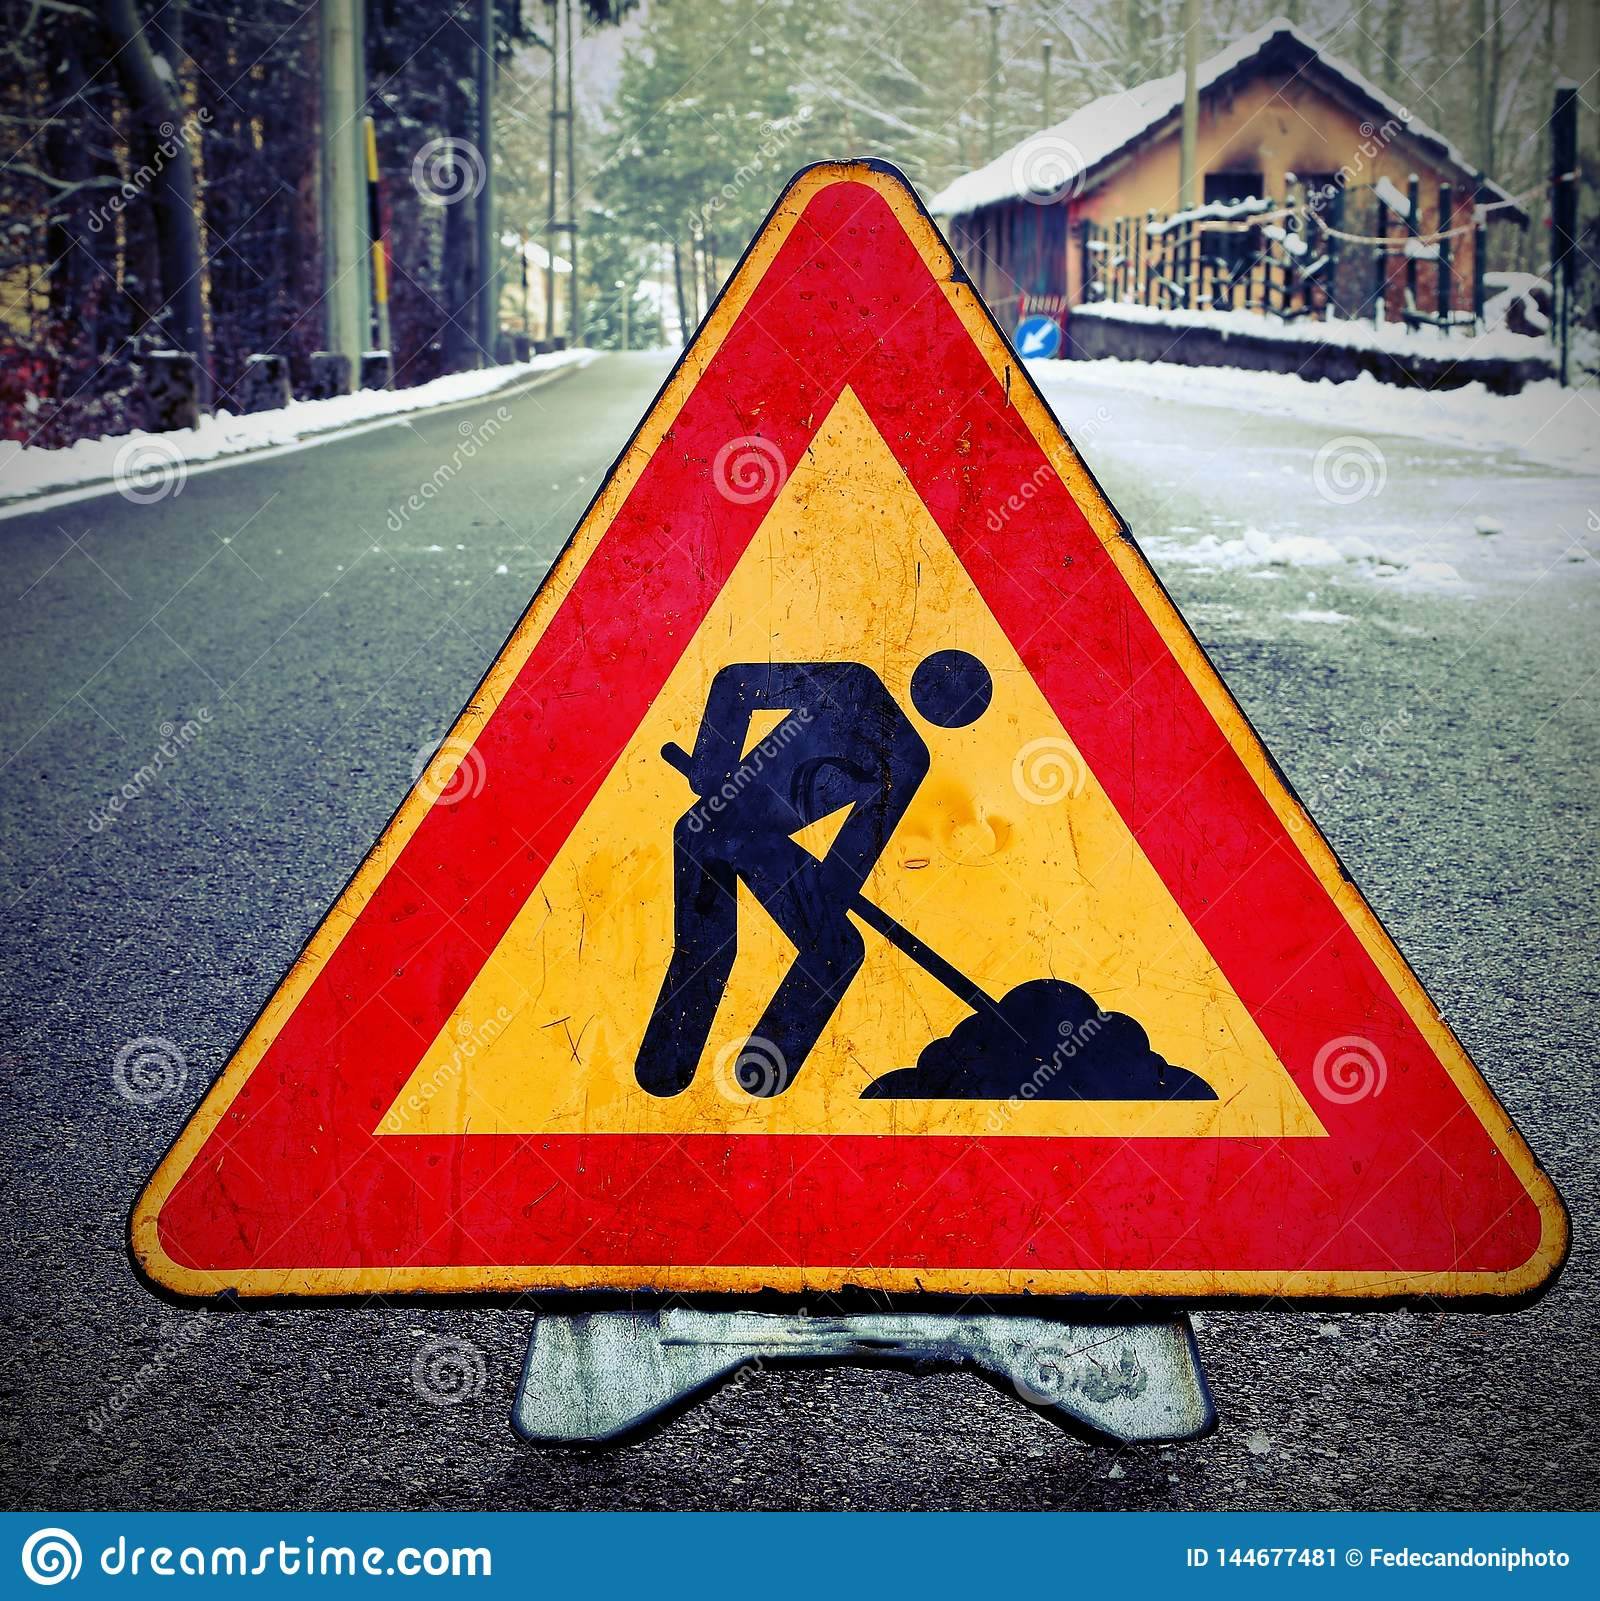caution: (122, 160, 1568, 1311)
